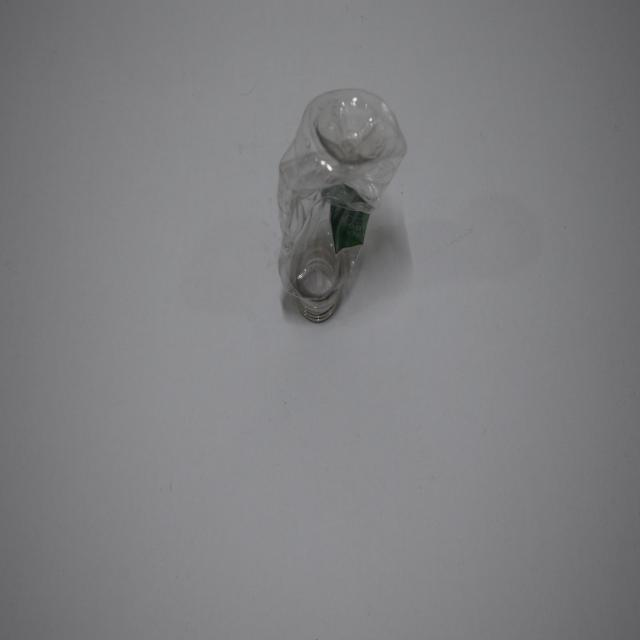bottle: (268, 80, 416, 324)
